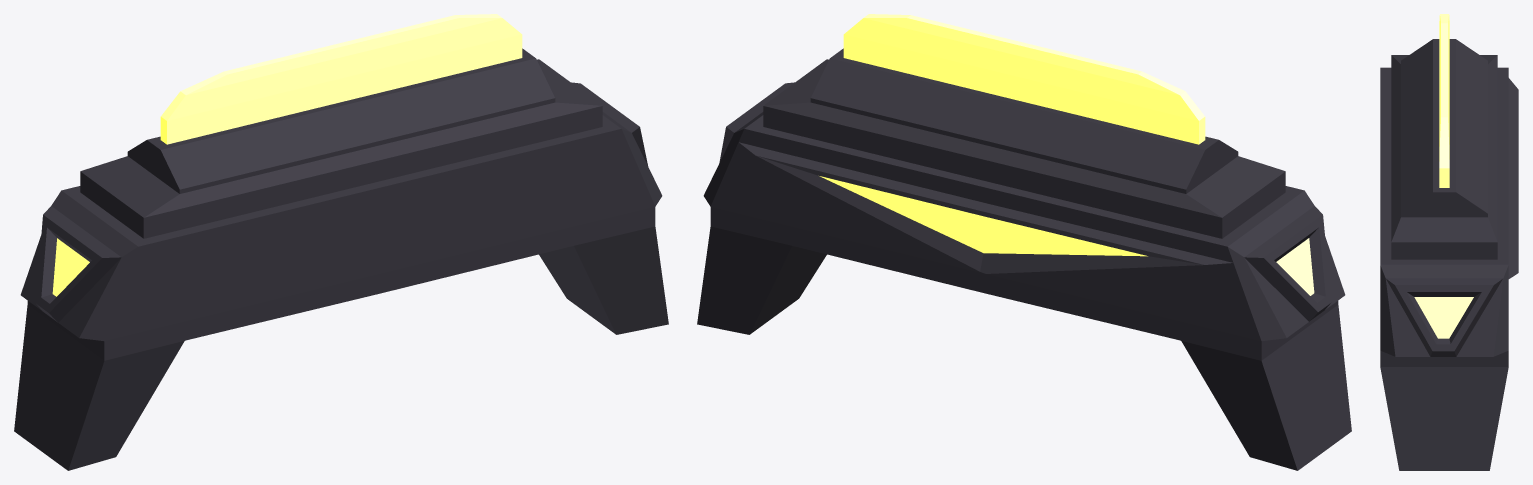
File: Sign.fbx
The picture shows the model from 3 angles, left to right: view 1: azimuth 30°, elevation 25°; view 2: azimuth 150°, elevation 25°; view 3: azimuth 270°, elevation 25°; orthographic projection. The views are drawn at different scales.
Parts seen in each view (by area): view 1: Cube.001; view 2: Cube.001; view 3: Cube.001.
Boxes of the visible parts, x1,y1,x2,y2 form: Cube.001: [14, 14, 668, 470]; Cube.001: [697, 14, 1351, 470]; Cube.001: [1380, 14, 1518, 470].
Bounding box in the file's own units: 451 × 239 × 108.
